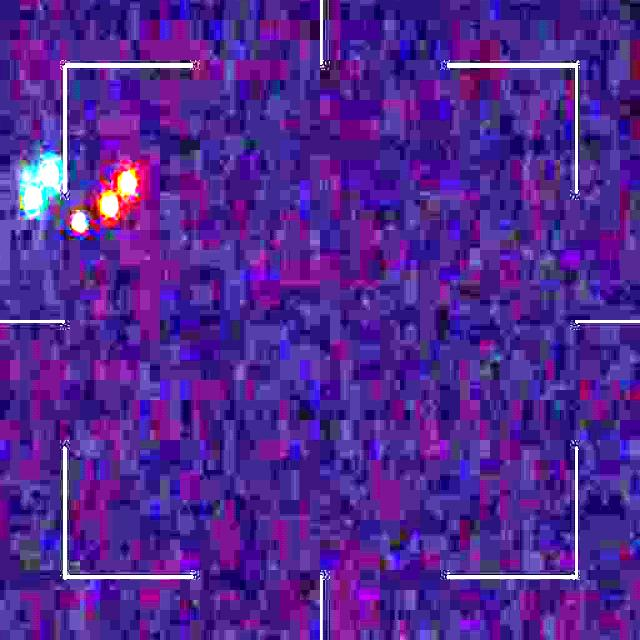bird: (24, 159, 142, 232)
